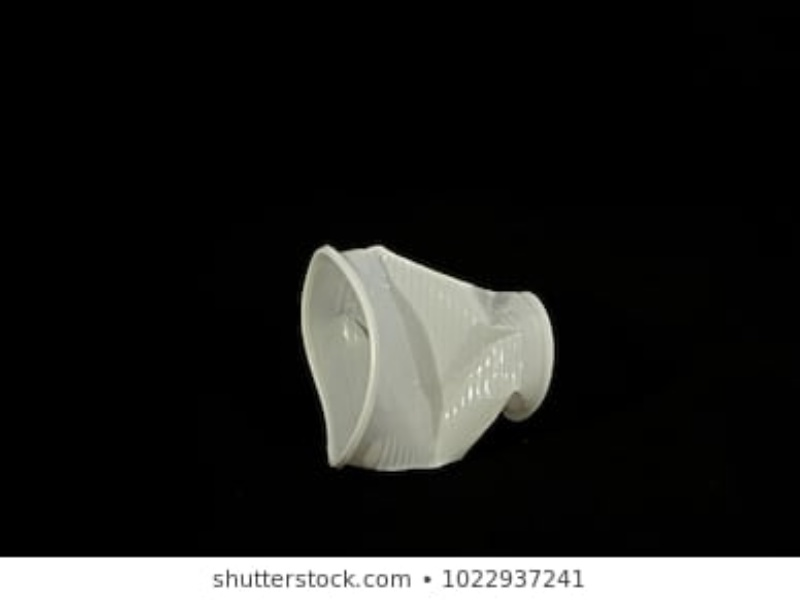plastic-cup: (290, 246, 558, 471)
